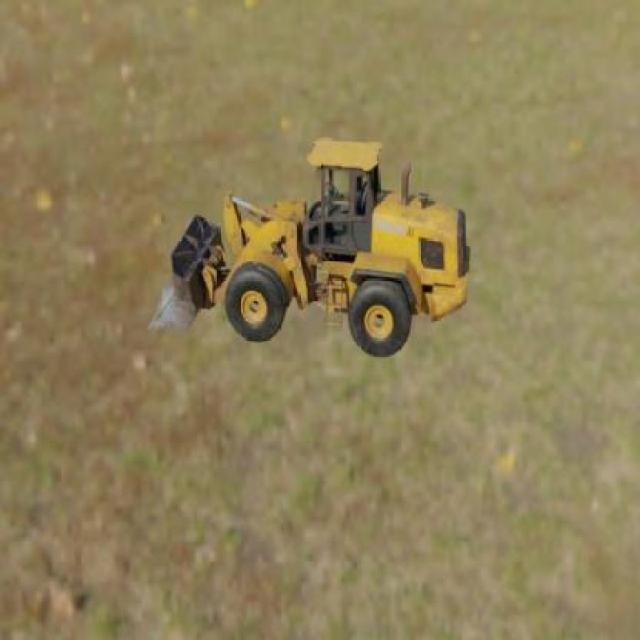buldozerpayloadergrader: (152, 132, 474, 358)
